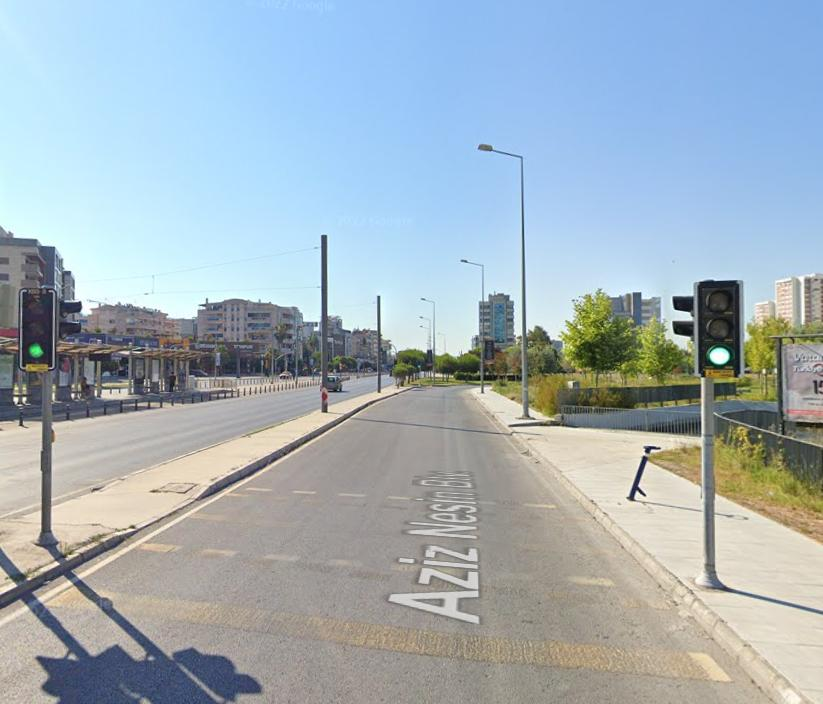greenlight: (697, 272, 741, 376), (20, 287, 56, 372)
